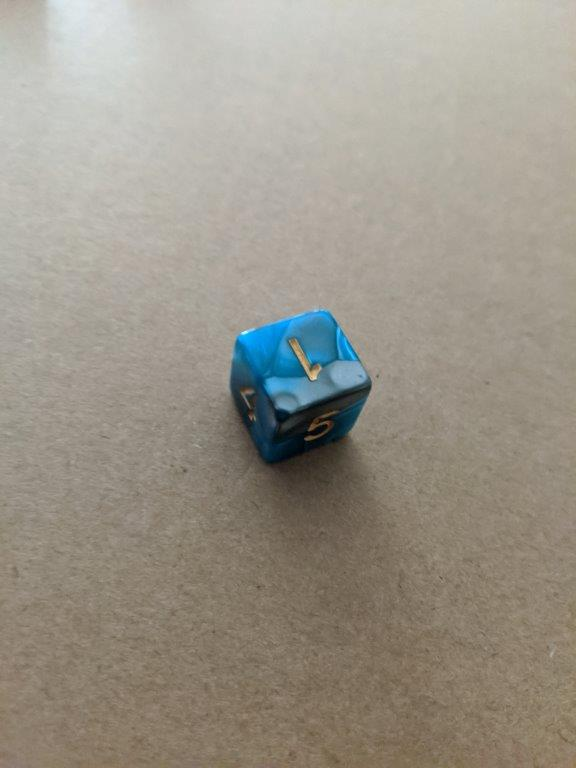d6-1: (229, 310, 370, 465)
